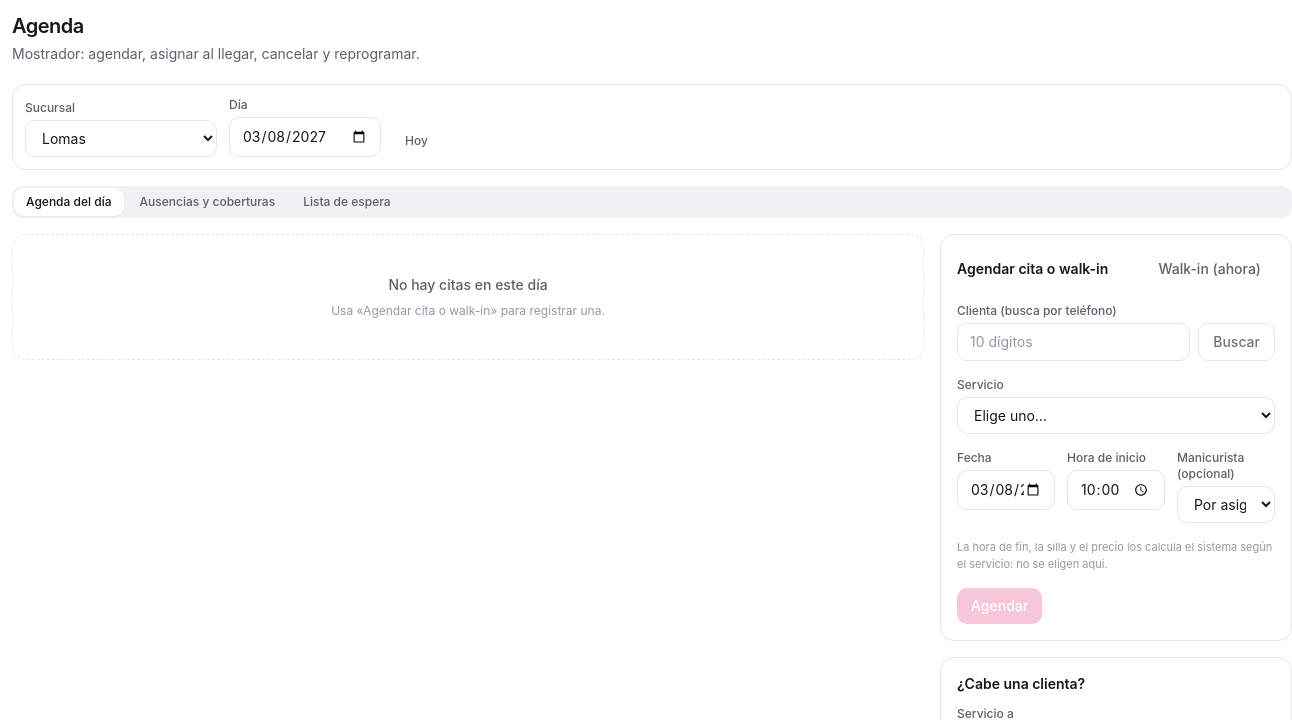
Test: Agenda Operativa — agendar cita y walk-in › avisa de que una clienta en LISTA ROJA generará una cita en espera de pago
This screenshot has width=1292, height=720.
Type "4421112233" into the field labelled "Clienta (busca por teléfono)". click: (1074, 342)
box: [957,323,1190,361]
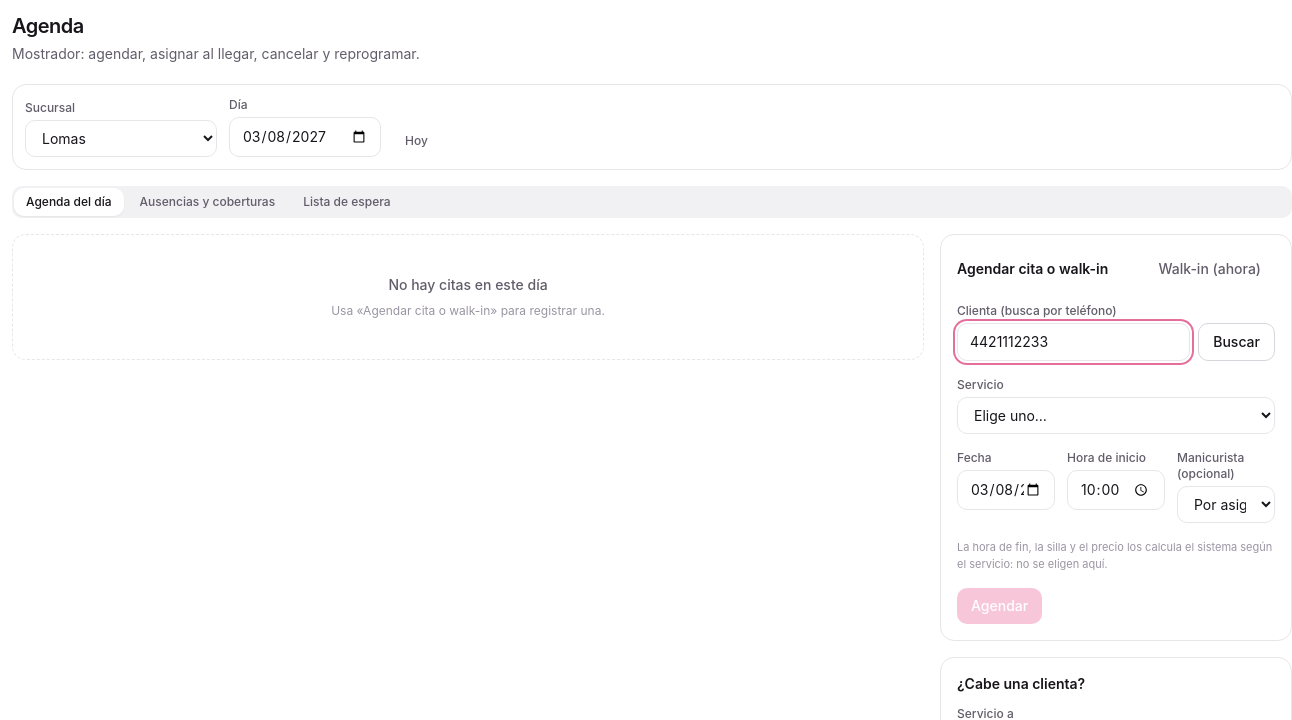
Click the button "Buscar". click: (1237, 342)
box: [1198,323,1275,361]
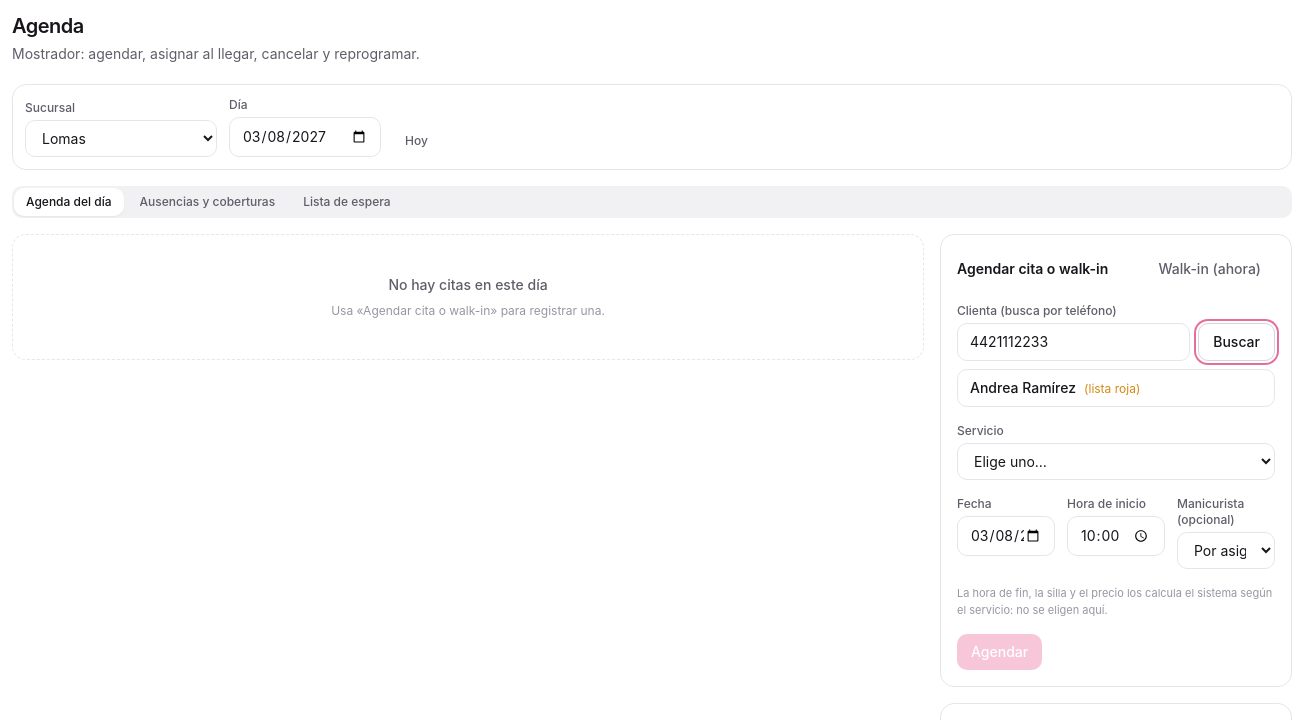
Click the button "Andrea Ramírez(lista roja)". click: (1116, 388)
box: [957,369,1275,407]
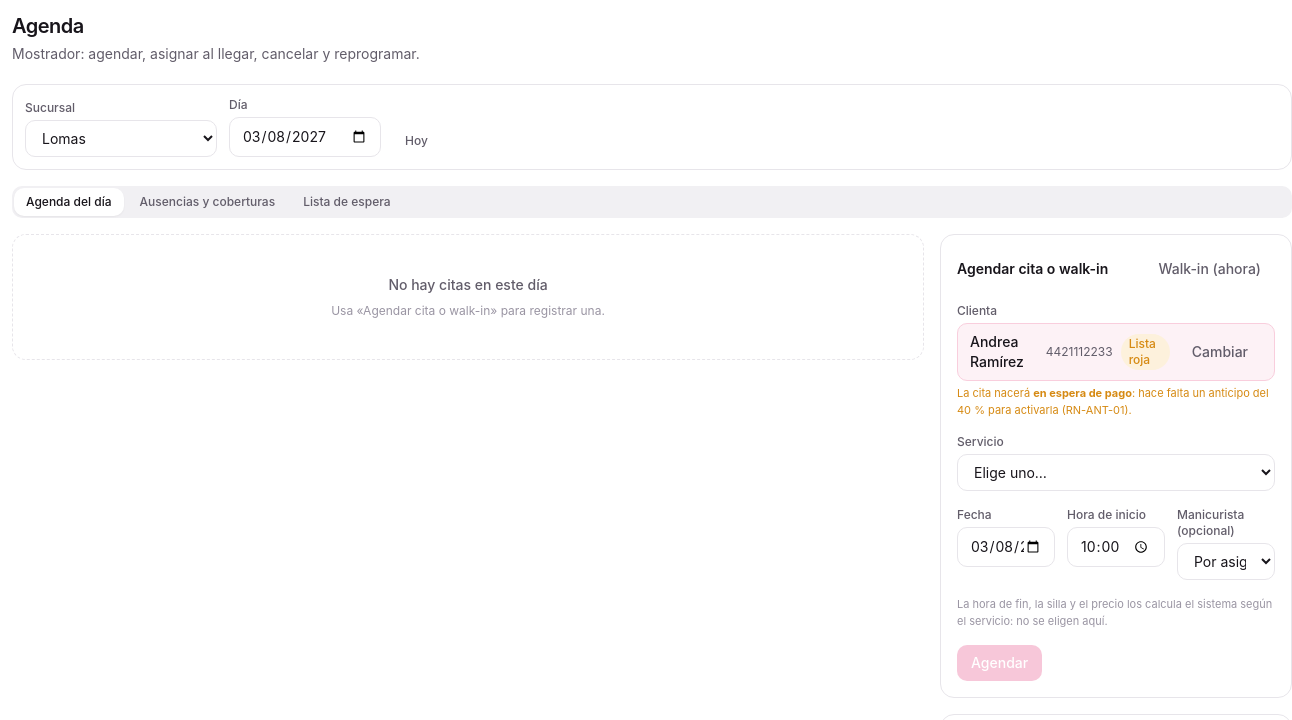
Result: the text "nacerá" shows "anticipo del 40 %" at [957,386,1269,416]
